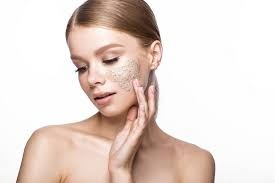Melasma: (85, 19, 188, 89)
